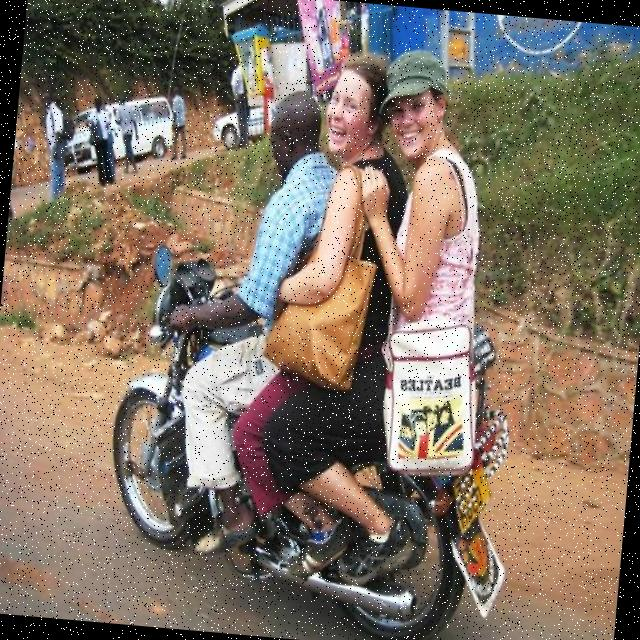No helmet: (255, 78, 332, 170)
Triple riding: (224, 44, 520, 434)
